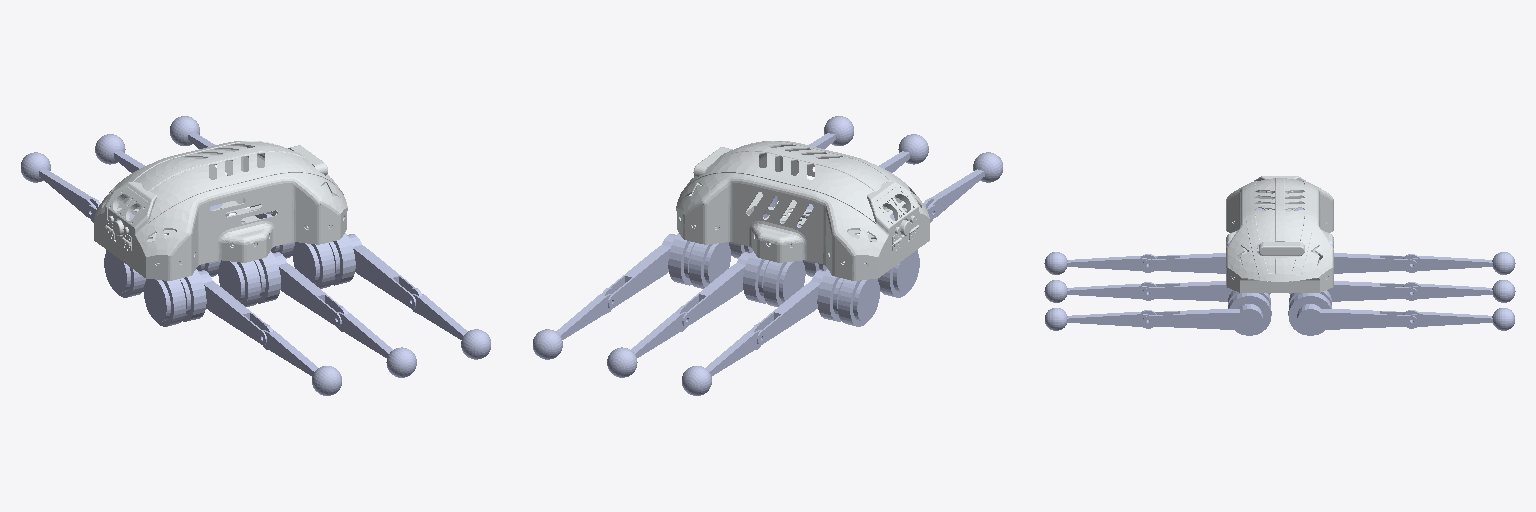
--- Render facts (derived) ---
Views: 3 orthographic renders of the robot side by side, from view 1: azimuth 30°, elevation 25°; view 2: azimuth 150°, elevation 25°; view 3: azimuth 270°, elevation 25°.
Robot: new — 20 links, 19 joints (18 revolute, 1 fixed); root link base_footprint; default pose: every joint at zero.
Links seen in each view (by area): view 1: base_link, R1_2, R3_2, R2_2, R1_3, R2_3, R3_3, R3_1, L3_3, R2_1, R1_1, L3_1 (+2 smaller); view 2: base_link, L1_2, L3_2, L2_2, L1_3, L2_3, L3_3, L3_1, R3_3, L2_1, L1_1, R3_1 (+2 smaller); view 3: base_link, L1_2, R1_2, L2_2, R2_2, L3_2, R3_2, L2_3, R3_3, R1_3, R2_3, L3_3 (+1 smaller).
Boxes of the visible links, bbox=[...] form: base_link: bbox=[94, 141, 347, 280]; R1_2: bbox=[329, 233, 415, 308]; R3_2: bbox=[180, 269, 272, 344]; R2_2: bbox=[254, 251, 347, 326]; R1_3: bbox=[409, 288, 490, 359]; R2_3: bbox=[335, 306, 416, 377]; R3_3: bbox=[260, 324, 341, 395]; R3_1: bbox=[144, 262, 185, 326]; L3_3: bbox=[21, 152, 100, 222]; R2_1: bbox=[218, 222, 260, 306]; R1_1: bbox=[293, 226, 334, 288]; L3_1: bbox=[104, 212, 152, 297]; base_link: bbox=[676, 141, 929, 280]; L1_2: bbox=[608, 233, 694, 308]; L3_2: bbox=[751, 269, 843, 344]; L2_2: bbox=[676, 251, 769, 326]; L1_3: bbox=[533, 288, 614, 359]; L2_3: bbox=[607, 306, 688, 377]; L3_3: bbox=[682, 324, 763, 395]; L3_1: bbox=[838, 262, 879, 326]; R3_3: bbox=[923, 152, 1002, 222]; L2_1: bbox=[763, 222, 805, 306]; L1_1: bbox=[689, 226, 730, 288]; R3_1: bbox=[871, 212, 919, 297]; base_link: bbox=[1226, 176, 1333, 292]; L1_2: bbox=[1288, 293, 1416, 335]; R1_2: bbox=[1143, 293, 1271, 335]; L2_2: bbox=[1289, 281, 1416, 301]; R2_2: bbox=[1143, 281, 1270, 301]; L3_2: bbox=[1334, 253, 1416, 273]; R3_2: bbox=[1143, 253, 1225, 273]; L2_3: bbox=[1403, 280, 1515, 302]; R3_3: bbox=[1044, 252, 1156, 274]; R1_3: bbox=[1045, 308, 1156, 330]; R2_3: bbox=[1044, 280, 1156, 302]; L3_3: bbox=[1403, 252, 1515, 274].
Size in the robot's own frame: 0.4304 by 1 by 0.2403 metres.
Meshes: 19 distinct files referenced, 19 mesh visuals loaded (19 binary STL).

URDF robot description (new):
<?xml version="1.0" encoding="utf-8"?>
<!-- This URDF was automatically created by SolidWorks to URDF Exporter! Originally created by Stephen Brawner ([email redacted]) 
     Commit Version: 1.6.0-4-g7f85cfe  Build Version: 1.6.7995.38578
     For more information, please see http://wiki.ros.org/sw_urdf_exporter -->
<robot
  name="new">

<!--  添加一个尺寸极小的link 再去关联初始link与baselink 关节高度刚好和baselink下沉的高度一致-->
<link name="base_footprint">
        <visual>
            <geometry>
                <sphere radius="0.001" />
            </geometry>
        </visual>
    </link>


  <link
    name="base_link">
    <inertial>
      <origin
        xyz="0.0021167 8.5198E-05 0.02981"
        rpy="0 0 0" />
      <mass
        value="1.604" />
      <!-- <inertia
        ixx="0.0093722"
        ixy="-2.3907E-07"
        ixz="0.00039019"
        iyy="0.01924"
        iyz="1.5047E-06"
        izz="0.024851" />
    </inertial> -->
            <inertia 
        ixx="1"
        ixy="0"
        ixz="0"
        iyy="1"
        iyz="0"
        izz="1" />
      </inertial> 
    <visual>
      <origin
        xyz="0 0 0"
        rpy="0 0 0" />
      <geometry>
        <mesh
          filename="package://new/meshes/base_link.STL" />
      </geometry>
      <material
        name="">
        <color
          rgba="0.89804 0.91765 0.92941 1" />
      </material>
    </visual>
    <collision>
      <origin
        xyz="0 0 0"
        rpy="0 0 0" />
      <geometry>
        <mesh
          filename="package://new/meshes/base_link.STL" />
      </geometry>
    </collision>
  </link>


 <joint name="base_link2base_footprint" type="fixed">
        <parent link="base_footprint" />
        <child link="base_link"/>
        <origin xyz="0 0 0.132" />
    </joint>
  <!-- <xacro:include filename="$(find realsense2_description)/urdf/_d435i.urdf.xacro"/>
  <sensor_d435i parent="base_link" use_nominal_extrinsics="true">
    <origin xyz="0.0 -0.06 0.070" rpy="0 0 -1.57" />
  </sensor_d435i>   -->

  <link
    name="L1_1">
    <inertial>
      <origin
        xyz="-0.00067309 1.4848E-09 -0.031863"
        rpy="0 0 0" />
      <mass
        value="0.42231" />
      <!-- <inertia
        ixx="0.00033286"
        ixy="-3.0595E-13"
        ixz="-2.9159E-11"
        iyy="0.00024704"
        iyz="-1.474E-11"
        izz="0.00033852" />
    </inertial> -->
            <inertia
        ixx="1"
        ixy="0"
        ixz="0"
        iyy="1"
        iyz="0"
        izz="1" />
      </inertial> 
    <visual>
      <origin
        xyz="0 0 0"
        rpy="0 0 0" />
      <geometry>
        <mesh
          filename="package://new/meshes/L1_1.STL" />
      </geometry>
      <material
        name="">
        <color
          rgba="0.79216 0.81961 0.93333 1" />
      </material>
    </visual>
    <collision>
      <origin
        xyz="0 0 0"
        rpy="0 0 0" />
      <geometry>
        <mesh
          filename="package://new/meshes/L1_1.STL" />
      </geometry>
    </collision>
  </link>
  <joint
    name="L1_1J"
    type="revolute">
    <origin
      xyz="0.1409 0.065 -0.02125"
      rpy="0 0 0" />
    <parent
      link="base_link" />
    <child
      link="L1_1" />
    <axis
      xyz="0 0 -1" />
    <limit
      lower="-3"
      upper="3"
      effort="100"
      velocity="3" />
      <dynamics damping="0" friction="0.02"/>
  </joint>
  <link
    name="L1_2">
    <inertial>
      <origin
        xyz="0.049658 0.026192 -4.3584E-06"
        rpy="0 0 0" />
      <mass
        value="0.36848" />
      <!-- <inertia
        ixx="0.0011427"
        ixy="-0.00016978"
        ixz="2.8266E-08"
        iyy="0.0002345"
        iyz="1.9571E-07"
        izz="0.0011212" />
    </inertial> -->
            <inertia
        ixx="1"
        ixy="0"
        ixz="0"
        iyy="1"
        iyz="0"
        izz="1" />
      </inertial> 
    <visual>
      <origin
        xyz="0 0 0"
        rpy="0 0 0" />
      <geometry>
        <mesh
          filename="package://new/meshes/L1_2.STL" />
      </geometry>
      <material
        name="">
        <color
          rgba="0.79216 0.81961 0.93333 1" />
      </material>
    </visual>
    <collision>
      <origin
        xyz="0 0 0"
        rpy="0 0 0" />
      <geometry>
        <mesh
          filename="package://new/meshes/L1_2.STL" />
      </geometry>
    </collision>
  </link>
  <joint
    name="L1_2J"
    type="revolute">
    <origin
      xyz="0 0 -0.06575"
      rpy="0 0 0" />
    <parent
      link="L1_1" />
    <child
      link="L1_2" />
    <axis
      xyz="1 0 0" />
    <limit
      lower="-3"
      upper="3"
      effort="100"
      velocity="3" />
      <dynamics damping="0" friction="0.02"/>
  </joint>
  <link
    name="L1_3">
    <inertial>
      <origin
        xyz="-0.003 0.13449 2.7756E-17"
        rpy="0 0 0" />
      <mass
        value="0.12147" />
      <!-- <inertia
        ixx="0.00070059"
        ixy="1.7121E-19"
        ixz="5.131E-14"
        iyy="2.025E-05"
        iyz="-6.2828E-20"
        izz="0.00069843" />
    </inertial> -->
            <inertia
        ixx="1"
        ixy="0"
        ixz="0"
        iyy="1"
        iyz="0"
        izz="1" />
      </inertial> 
    <visual>
      <origin
        xyz="0 0 0"
        rpy="0 0 0" />
      <geometry>
        <mesh
          filename="package://new/meshes/L1_3.STL" />
      </geometry>
      <material
        name="">
        <color
          rgba="0.79216 0.81961 0.93333 1" />
      </material>
    </visual>
    <collision>
      <origin
        xyz="0 0 0"
        rpy="0 0 0" />
      <geometry>
        <mesh
          filename="package://new/meshes/L1_3.STL" />
      </geometry>
    </collision>
  </link>
  <joint
    name="L1_3J"
    type="revolute">
    <origin
      xyz="0.07025 0.216 0"
      rpy="0 0 0" />
    <parent
      link="L1_2" />
    <child
      link="L1_3" />
    <axis
      xyz="1 0 0" />
    <limit
      lower="-3"
      upper="3"
      effort="100"
      velocity="3" />
      <dynamics damping="0" friction="0.02"/>
  </joint>
  <link
    name="R1_1">
    <inertial>
      <origin
        xyz="-0.00067309 1.4848E-09 -0.031863"
        rpy="0 0 0" />
      <mass
        value="0.42231" />
      <!-- <inertia
        ixx="0.00033286"
        ixy="-3.0595E-13"
        ixz="-2.9159E-11"
        iyy="0.00024704"
        iyz="-1.474E-11"
        izz="0.00033852" />
    </inertial> -->
            <inertia
        ixx="1"
        ixy="0"
        ixz="0"
        iyy="1"
        iyz="0"
        izz="1" />
      </inertial> 
    <visual>
      <origin
        xyz="0 0 0"
        rpy="0 0 0" />
      <geometry>
        <mesh
          filename="package://new/meshes/R1_1.STL" />
      </geometry>
      <material
        name="">
        <color
          rgba="0.79216 0.81961 0.93333 1" />
      </material>
    </visual>
    <collision>
      <origin
        xyz="0 0 0"
        rpy="0 0 0" />
      <geometry>
        <mesh
          filename="package://new/meshes/R1_1.STL" />
      </geometry>
    </collision>
  </link>
  <joint
    name="R1_1J"
    type="revolute">
    <origin
      xyz="0.1409 -0.065 -0.02125"
      rpy="0 0 0" />
    <parent
      link="base_link" />
    <child
      link="R1_1" />
    <axis
      xyz="0 0 -1" />
    <limit
      lower="-3"
      upper="3"
      effort="100"
      velocity="3" />
      <dynamics damping="0" friction="0.02"/>
  </joint>
  <link
    name="R1_2">
    <inertial>
      <origin
        xyz="0.049658 -0.026192 4.3627E-06"
        rpy="0 0 0" />
      <mass
        value="0.36848" />
      <!-- <inertia
        ixx="0.0011427"
        ixy="0.00016978"
        ixz="-2.8266E-08"
        iyy="0.0002345"
        iyz="1.9571E-07"
        izz="0.0011212" />
    </inertial> -->
            <inertia
        ixx="1"
        ixy="0"
        ixz="0"
        iyy="1"
        iyz="0"
        izz="1" />
      </inertial> 
    <visual>
      <origin
        xyz="0 0 0"
        rpy="0 0 0" />
      <geometry>
        <mesh
          filename="package://new/meshes/R1_2.STL" />
      </geometry>
      <material
        name="">
        <color
          rgba="0.79216 0.81961 0.93333 1" />
      </material>
    </visual>
    <collision>
      <origin
        xyz="0 0 0"
        rpy="0 0 0" />
      <geometry>
        <mesh
          filename="package://new/meshes/R1_2.STL" />
      </geometry>
    </collision>
  </link>
  <joint
    name="R1_2J"
    type="revolute">
    <origin
      xyz="0 0 -0.06575"
      rpy="0 0 0" />
    <parent
      link="R1_1" />
    <child
      link="R1_2" />
    <axis
      xyz="1 0 0" />
    <limit
      lower="-3"
      upper="3"
      effort="100"
      velocity="3" />
      <dynamics damping="0" friction="0.02"/>
  </joint>
  <link
    name="R1_3">
    <inertial>
      <origin
        xyz="-0.003 -0.13449 -5.5511E-17"
        rpy="0 0 0" />
      <mass
        value="0.12147" />
      <!-- <inertia
        ixx="0.00070059"
        ixy="-1.2934E-19"
        ixz="-5.131E-14"
        iyy="2.025E-05"
        iyz="-6.9753E-20"
        izz="0.00069843" />
    </inertial> -->
            <inertia
        ixx="1"
        ixy="0"
        ixz="0"
        iyy="1"
        iyz="0"
        izz="1" />
      </inertial> 
    <visual>
      <origin
        xyz="0 0 0"
        rpy="0 0 0" />
      <geometry>
        <mesh
          filename="package://new/meshes/R1_3.STL" />
      </geometry>
      <material
        name="">
        <color
          rgba="0.79216 0.81961 0.93333 1" />
      </material>
    </visual>
    <collision>
      <origin
        xyz="0 0 0"
        rpy="0 0 0" />
      <geometry>
        <mesh
          filename="package://new/meshes/R1_3.STL" />
      </geometry>
    </collision>
  </link>
  <joint
    name="R1_3J"
    type="revolute">
    <origin
      xyz="0.07025 -0.216 0"
      rpy="0 0 0" />
    <parent
      link="R1_2" />
    <child
      link="R1_3" />
    <axis
      xyz="1 0 0" />
    <limit
      lower="-3"
      upper="3"
      effort="100"
      velocity="3" />
      <dynamics damping="0" friction="0.02"/>
  </joint>
  <link
    name="L2_1">
    <inertial>
      <origin
        xyz="-0.00067309 1.4848E-09 -0.031863"
        rpy="0 0 0" />
      <mass
        value="0.42231" />
      <!-- <inertia
        ixx="0.00033286"
        ixy="-3.0595E-13"
        ixz="-2.9159E-11"
        iyy="0.00024704"
        iyz="-1.474E-11"
        izz="0.00033852" />
    </inertial> -->
            <inertia
        ixx="1"
        ixy="0"
        ixz="0"
        iyy="1"
        iyz="0"
        izz="1" />
      </inertial> 
    <visual>
      <origin
        xyz="0 0 0"
        rpy="0 0 0" />
      <geometry>
        <mesh
          filename="package://new/meshes/L2_1.STL" />
      </geometry>
      <material
        name="">
        <color
          rgba="0.79216 0.81961 0.93333 1" />
      </material>
    </visual>
    <collision>
      <origin
        xyz="0 0 0"
        rpy="0 0 0" />
      <geometry>
        <mesh
          filename="package://new/meshes/L2_1.STL" />
      </geometry>
    </collision>
  </link>
  <joint
    name="L2_1J"
    type="revolute">
    <origin
      xyz="0 0.065 -0.02125"
      rpy="0 0 0" />
    <parent
      link="base_link" />
    <child
      link="L2_1" />
    <axis
      xyz="0 0 -1" />
    <limit
      lower="-3"
      upper="3"
      effort="100"
      velocity="3" />
      <dynamics damping="0" friction="0.02"/>
  </joint>
  <link
    name="L2_2">
    <inertial>
      <origin
        xyz="0.049658 0.026192 -4.3584E-06"
        rpy="0 0 0" />
      <mass
        value="0.36848" />
      <!-- <inertia
        ixx="0.0011427"
        ixy="-0.00016978"
        ixz="2.8266E-08"
        iyy="0.0002345"
        iyz="1.9571E-07"
        izz="0.0011212" />
    </inertial> -->
            <inertia
        ixx="1"
        ixy="0"
        ixz="0"
        iyy="1"
        iyz="0"
        izz="1" />
      </inertial> 
    <visual>
      <origin
        xyz="0 0 0"
        rpy="0 0 0" />
      <geometry>
        <mesh
          filename="package://new/meshes/L2_2.STL" />
      </geometry>
      <material
        name="">
        <color
          rgba="0.79216 0.81961 0.93333 1" />
      </material>
    </visual>
    <collision>
      <origin
        xyz="0 0 0"
        rpy="0 0 0" />
      <geometry>
        <mesh
          filename="package://new/meshes/L2_2.STL" />
      </geometry>
    </collision>
  </link>
  <joint
    name="L2_2J"
    type="revolute">
    <origin
      xyz="0 0 -0.06575"
      rpy="0 0 0" />
    <parent
      link="L2_1" />
    <child
      link="L2_2" />
    <axis
      xyz="1 0 0" />
    <limit
      lower="-3"
      upper="3"
      effort="100"
      velocity="3" />
      <dynamics damping="0" friction="0.02"/>
  </joint>
  <link
    name="L2_3">
    <inertial>
      <origin
        xyz="-0.003 0.13449 0"
        rpy="0 0 0" />
      <mass
        value="0.12147" />
      <!-- <inertia
        ixx="0.00070059"
        ixy="1.5629E-19"
        ixz="5.131E-14"
        iyy="2.025E-05"
        iyz="-4.5384E-20"
        izz="0.00069843" />
    </inertial> -->
            <inertia
        ixx="1"
        ixy="0"
        ixz="0"
        iyy="1"
        iyz="0"
        izz="1" />
      </inertial> 
    <visual>
      <origin
        xyz="0 0 0"
        rpy="0 0 0" />
      <geometry>
        <mesh
          filename="package://new/meshes/L2_3.STL" />
      </geometry>
      <material
        name="">
        <color
          rgba="0.79216 0.81961 0.93333 1" />
      </material>
    </visual>
    <collision>
      <origin
        xyz="0 0 0"
        rpy="0 0 0" />
      <geometry>
        <mesh
          filename="package://new/meshes/L2_3.STL" />
      </geometry>
    </collision>
  </link>
  <joint
    name="L2_3J"
    type="revolute">
    <origin
      xyz="0.07025 0.216 0"
      rpy="0 0 0" />
    <parent
      link="L2_2" />
    <child
      link="L2_3" />
    <axis
      xyz="1 0 0" />
    <limit
      lower="-3"
      upper="3"
      effort="100"
      velocity="3" />
      <dynamics damping="0" friction="0.02"/>
  </joint>
  <link
    name="R2_1">
    <inertial>
      <origin
        xyz="-0.00067309 1.4848E-09 -0.031863"
        rpy="0 0 0" />
      <mass
        value="0.42231" />
      <!-- <inertia
        ixx="0.00033286"
        ixy="-3.0595E-13"
        ixz="-2.9159E-11"
        iyy="0.00024704"
        iyz="-1.474E-11"
        izz="0.00033852" />
    </inertial> -->
            <inertia
        ixx="1"
        ixy="0"
        ixz="0"
        iyy="1"
        iyz="0"
        izz="1" />
      </inertial> 
    <visual>
      <origin
        xyz="0 0 0"
        rpy="0 0 0" />
      <geometry>
        <mesh
          filename="package://new/meshes/R2_1.STL" />
      </geometry>
      <material
        name="">
        <color
          rgba="0.79216 0.81961 0.93333 1" />
      </material>
    </visual>
    <collision>
      <origin
        xyz="0 0 0"
        rpy="0 0 0" />
      <geometry>
        <mesh
          filename="package://new/meshes/R2_1.STL" />
      </geometry>
    </collision>
  </link>
  <joint
    name="R2_1J"
    type="revolute">
    <origin
      xyz="0 -0.065 -0.02125"
      rpy="0 0 0" />
    <parent
      link="base_link" />
    <child
      link="R2_1" />
    <axis
      xyz="0 0 -1" />
    <limit
      lower="-3"
      upper="3"
      effort="100"
      velocity="3" />
      <dynamics damping="0" friction="0.02"/>
  </joint>
  <link
    name="R2_2">
    <inertial>
      <origin
        xyz="0.049658 -0.026192 4.3627E-06"
        rpy="0 0 0" />
      <mass
        value="0.36848" />
      <!-- <inertia
        ixx="0.0011427"
        ixy="0.00016978"
        ixz="-2.8266E-08"
        iyy="0.0002345"
        iyz="1.9571E-07"
        izz="0.0011212" />
    </inertial> -->
            <inertia
        ixx="1"
        ixy="0"
        ixz="0"
        iyy="1"
        iyz="0"
        izz="1" />
      </inertial> 
    <visual>
      <origin
        xyz="0 0 0"
        rpy="0 0 0" />
      <geometry>
        <mesh
          filename="package://new/meshes/R2_2.STL" />
      </geometry>
      <material
        name="">
        <color
          rgba="0.79216 0.81961 0.93333 1" />
      </material>
    </visual>
    <collision>
      <origin
        xyz="0 0 0"
        rpy="0 0 0" />
      <geometry>
        <mesh
          filename="package://new/meshes/R2_2.STL" />
      </geometry>
    </collision>
  </link>
  <joint
    name="R2_2J"
    type="revolute">
    <origin
      xyz="0 0 -0.06575"
      rpy="0 0 0" />
    <parent
      link="R2_1" />
    <child
      link="R2_2" />
    <axis
      xyz="1 0 0" />
    <limit
      lower="-3"
      upper="3"
      effort="100"
      velocity="3" />
      <dynamics damping="0" friction="0.02"/>
  </joint>
  <link
    name="R2_3">
    <inertial>
      <origin
        xyz="0.003 -0.134485646148589 -2.77555756156289E-17"
        rpy="0 0 0" />
      <mass
        value="0.12147150023465" />
      <!-- <inertia
        ixx="0.000700586529163542"
        ixy="-1.18247564853111E-19"
        ixz="-5.13095320285965E-14"
        iyy="2.02504146274256E-05"
        iyz="-1.08211276134211E-19"
        izz="0.000698429465120906" />
    </inertial> -->
            <inertia
        ixx="1"
        ixy="0"
        ixz="0"
        iyy="1"
        iyz="0"
        izz="1" />
      </inertial> 
    <visual>
      <origin
        xyz="0 0 0"
        rpy="0 0 0" />
      <geometry>
        <mesh
          filename="package://new/meshes/R2_3.STL" />
      </geometry>
      <material
        name="">
        <color
          rgba="0.792156862745098 0.819607843137255 0.933333333333333 1" />
      </material>
    </visual>
    <collision>
      <origin
        xyz="0 0 0"
        rpy="0 0 0" />
      <geometry>
        <mesh
          filename="package://new/meshes/R2_3.STL" />
      </geometry>
    </collision>
  </link>
  <joint
    name="R2_3J"
    type="revolute">
    <origin
      xyz="0.06425 -0.216 0"
      rpy="0 0 0" />
    <parent
      link="R2_2" />
    <child
      link="R2_3" />
    <axis
      xyz="1 0 0" />
    <limit
      lower="-3"
      upper="3"
      effort="100"
      velocity="3" />
      <dynamics damping="0" friction="0.02"/>
  </joint>
  <link
    name="L3_1">
    <inertial>
      <origin
        xyz="-0.00067309 1.4848E-09 -0.031863"
        rpy="0 0 0" />
      <mass
        value="0.42231" />
      <!-- <inertia
        ixx="0.00033286"
        ixy="-3.0595E-13"
        ixz="-2.9159E-11"
        iyy="0.00024704"
        iyz="-1.474E-11"
        izz="0.00033852" />
    </inertial> -->
            <inertia
        ixx="1"
        ixy="0"
        ixz="0"
        iyy="1"
        iyz="0"
        izz="1" />
      </inertial> 
    <visual>
      <origin
        xyz="0 0 0"
        rpy="0 0 0" />
      <geometry>
        <mesh
          filename="package://new/meshes/L3_1.STL" />
      </geometry>
      <material
        name="">
        <color
          rgba="0.79216 0.81961 0.93333 1" />
      </material>
    </visual>
    <collision>
      <origin
        xyz="0 0 0"
        rpy="0 0 0" />
      <geometry>
        <mesh
          filename="package://new/meshes/L3_1.STL" />
      </geometry>
    </collision>
  </link>
  <joint
    name="L3_1J"
    type="revolute">
    <origin
      xyz="-0.1409 0.065 -0.02125"
      rpy="0 0 0" />
    <parent
      link="base_link" />
    <child
      link="L3_1" />
    <axis
      xyz="0 0 -1" />
    <limit
      lower="-3"
      upper="3"
      effort="100"
      velocity="3" />
      <dynamics damping="0" friction="0.02"/>
  </joint>
  <link
    name="L3_2">
    <inertial>
      <origin
        xyz="0.049658 0.026192 -4.3584E-06"
        rpy="0 0 0" />
      <mass
        value="0.36848" />
      <!-- <inertia
        ixx="0.0011427"
        ixy="-0.00016978"
        ixz="2.8266E-08"
        iyy="0.0002345"
        iyz="1.9571E-07"
        izz="0.0011212" />
    </inertial> -->
            <inertia
        ixx="1"
        ixy="0"
        ixz="0"
        iyy="1"
        iyz="0"
        izz="1" />
      </inertial> 
    <visual>
      <origin
        xyz="0 0 0"
        rpy="0 0 0" />
      <geometry>
        <mesh
          filename="package://new/meshes/L3_2.STL" />
      </geometry>
      <material
        name="">
        <color
          rgba="0.79216 0.81961 0.93333 1" />
      </material>
    </visual>
    <collision>
      <origin
        xyz="0 0 0"
        rpy="0 0 0" />
      <geometry>
        <mesh
          filename="package://new/meshes/L3_2.STL" />
      </geometry>
    </collision>
  </link>
  <joint
    name="L3_2J"
    type="revolute">
    <origin
      xyz="0 0 -0.06575"
      rpy="0 0 0" />
    <parent
      link="L3_1" />
    <child
      link="L3_2" />
    <axis
      xyz="1 0 0" />
    <limit
      lower="-3"
      upper="3"
      effort="100"
      velocity="3" />
      <dynamics damping="0" friction="0.02"/>
  </joint>
  <link
    name="L3_3">
    <inertial>
      <origin
        xyz="0.003 0.13449 2.7756E-17"
        rpy="0 0 0" />
      <mass
        value="0.12147" />
      <!-- <inertia
        ixx="0.00070059"
        ixy="1.5737E-19"
        ixz="5.131E-14"
        iyy="2.025E-05"
        iyz="-8.1516E-21"
        izz="0.00069843" />
    </inertial> -->
            <inertia
        ixx="1"
        ixy="0"
        ixz="0"
        iyy="1"
        iyz="0"
        izz="1" />
      </inertial> 
    <visual>
      <origin
        xyz="0 0 0"
        rpy="0 0 0" />
      <geometry>
        <mesh
          filename="package://new/meshes/L3_3.STL" />
      </geometry>
      <material
        name="">
        <color
          rgba="0.79216 0.81961 0.93333 1" />
      </material>
    </visual>
    <collision>
      <origin
        xyz="0 0 0"
        rpy="0 0 0" />
      <geometry>
        <mesh
          filename="package://new/meshes/L3_3.STL" />
      </geometry>
    </collision>
  </link>
  <joint
    name="L3_3J"
    type="revolute">
    <origin
      xyz="0.06425 0.216 0"
      rpy="0 0 0" />
    <parent
      link="L3_2" />
    <child
      link="L3_3" />
    <axis
      xyz="1 0 0" />
    <limit
      lower="-3"
      upper="3"
      effort="100"
      velocity="3" />
      <dynamics damping="0" friction="0.02"/>
  </joint>
  <link
    name="R3_1">
    <inertial>
      <origin
        xyz="-0.00067309 1.4848E-09 -0.031863"
        rpy="0 0 0" />
      <mass
        value="0.42231" />
      <!-- <inertia
        ixx="0.00033286"
        ixy="-3.0595E-13"
        ixz="-2.9159E-11"
        iyy="0.00024704"
        iyz="-1.474E-11"
        izz="0.00033852" />
    </inertial> -->
            <inertia
        ixx="1"
        ixy="0"
        ixz="0"
        iyy="1"
        iyz="0"
        izz="1" />
      </inertial> 
    <visual>
      <origin
        xyz="0 0 0"
        rpy="0 0 0" />
      <geometry>
        <mesh
          filename="package://new/meshes/R3_1.STL" />
      </geometry>
      <material
        name="">
        <color
          rgba="0.79216 0.81961 0.93333 1" />
      </material>
    </visual>
    <collision>
      <origin
        xyz="0 0 0"
        rpy="0 0 0" />
      <geometry>
        <mesh
          filename="package://new/meshes/R3_1.STL" />
      </geometry>
    </collision>
  </link>
  <joint
    name="R3_1J"
    type="revolute">
    <origin
      xyz="-0.1409 -0.065 -0.02125"
      rpy="0 0 0" />
    <parent
      link="base_link" />
    <child
      link="R3_1" />
    <axis
      xyz="0 0 -1" />
    <limit
      lower="-3"
      upper="3"
      effort="100"
      velocity="3" />
      <dynamics damping="0" friction="0.02"/>
  </joint>
  <link
    name="R3_2">
    <inertial>
      <origin
        xyz="0.049658 -0.026192 4.3627E-06"
        rpy="0 0 0" />
      <mass
        value="0.36848" />
      <!-- <inertia
        ixx="0.0011427"
        ixy="0.00016978"
        ixz="-2.8266E-08"
        iyy="0.0002345"
        iyz="1.9571E-07"
        izz="0.0011212" />
    </inertial> -->
            <inertia
        ixx="1"
        ixy="0"
        ixz="0"
        iyy="1"
        iyz="0"
        izz="1" />
      </inertial> 
    <visual>
      <origin
        xyz="0 0 0"
        rpy="0 0 0" />
      <geometry>
        <mesh
          filename="package://new/meshes/R3_2.STL" />
      </geometry>
      <material
        name="">
        <color
          rgba="0.79216 0.81961 0.93333 1" />
      </material>
    </visual>
    <collision>
      <origin
        xyz="0 0 0"
        rpy="0 0 0" />
      <geometry>
        <mesh
          filename="package://new/meshes/R3_2.STL" />
      </geometry>
    </collision>
  </link>
  <joint
    name="R3_2J"
    type="revolute">
    <origin
      xyz="0 0 -0.06575"
      rpy="0 0 0" />
    <parent
      link="R3_1" />
    <child
      link="R3_2" />
    <axis
      xyz="1 0 0" />
    <limit
      lower="-3"
      upper="3"
      effort="100"
      velocity="3" />
      <dynamics damping="0" friction="0.02"/>
  </joint>
  <link
    name="R3_3">
    <inertial>
      <origin
        xyz="0.003 -0.13449 0"
        rpy="0 0 0" />
      <mass
        value="0.12147" />
      <!-- <inertia
        ixx="0.00070059"
        ixy="-1.906E-19"
        ixz="-5.131E-14"
        iyy="2.025E-05"
        iyz="-2.412E-19"
        izz="0.00069843" />
    </inertial> -->
            <inertia
        ixx="1"
        ixy="0"
        ixz="0"
        iyy="1"
        iyz="0"
        izz="1" />
      </inertial> 
    <visual>
      <origin
        xyz="0 0 0"
        rpy="0 0 0" />
      <geometry>
        <mesh
          filename="package://new/meshes/R3_3.STL" />
      </geometry>
      <material
        name="">
        <color
          rgba="0.79216 0.81961 0.93333 1" />
      </material>
    </visual>
    <collision>
      <origin
        xyz="0 0 0"
        rpy="0 0 0" />
      <geometry>
        <mesh
          filename="package://new/meshes/R3_3.STL" />
      </geometry>
    </collision>
  </link>
  <joint
    name="R3_3J"
    type="revolute">
    <origin
      xyz="0.06425 -0.216 0"
      rpy="0 0 0" />
    <parent
      link="R3_2" />
    <child
      link="R3_3" />
    <axis
      xyz="1 0 0" />
    <limit
      lower="-3"
      upper="3"
      effort="100"
      velocity="3" />
      <dynamics damping="0" friction="0.02"/>
  </joint>

  <transmission name="trans_L1_1_joint">
        <type>transmission_interface/SimpleTransmission</type>
        <joint name="L1_1J">
            <hardwareInterface>hardware_interface/EffortJointInterface</hardwareInterface>
        </joint>
        <actuator name="L1_1_joint_motor">
            <hardwareInterface>hardware_interface/EffortJointInterface</hardwareInterface>
            <mechanicalReduction>1</mechanicalReduction>
        </actuator>
    </transmission>
<transmission name="trans_L1_2_joint">
        <type>transmission_interface/SimpleTransmission</type>
        <joint name="L1_2J">
            <hardwareInterface>hardware_interface/EffortJointInterface</hardwareInterface>
        </joint>
        <actuator name="L1_2_joint_motor">
            <hardwareInterface>hardware_interface/EffortJointInterface</hardwareInterface>
            <mechanicalReduction>1</mechanicalReduction>
        </actuator>
    </transmission>
<transmission name="trans_L1_3_joint">
        <type>transmission_interface/SimpleTransmission</type>
        <joint name="L1_3J">
            <hardwareInterface>hardware_interface/EffortJointInterface</hardwareInterface>
        </joint>
        <actuator name="L1_3_joint_motor">
            <hardwareInterface>hardware_interface/EffortJointInterface</hardwareInterface>
            <mechanicalReduction>1</mechanicalReduction>
        </actuator>
    </transmission>
    <transmission name="trans_L2_1_joint">
        <type>transmission_interface/SimpleTransmission</type>
        <joint name="L2_1J">
            <hardwareInterface>hardware_interface/EffortJointInterface</hardwareInterface>
        </joint>
        <actuator name="L2_1_joint_motor">
            <hardwareInterface>hardware_interface/EffortJointInterface</hardwareInterface>
            <mechanicalReduction>1</mechanicalReduction>
        </actuator>
    </transmission>
    <transmission name="trans_L2_2_joint">
        <type>transmission_interface/SimpleTransmission</type>
        <joint name="L2_2J">
            <hardwareInterface>hardware_interface/EffortJointInterface</hardwareInterface>
        </joint>
        <actuator name="L2_2_joint_motor">
            <hardwareInterface>hardware_interface/EffortJointInterface</hardwareInterface>
            <mechanicalReduction>1</mechanicalReduction>
        </actuator>
    </transmission>
    <transmission name="trans_L2_3_joint">
        <type>transmission_interface/SimpleTransmission</type>
        <joint name="L2_3J">
            <hardwareInterface>hardware_interface/EffortJointInterface</hardwareInterface>
        </joint>
        <actuator name="L2_3_joint_motor">
            <hardwareInterface>hardware_interface/EffortJointInterface</hardwareInterface>
            <mechanicalReduction>1</mechanicalReduction>
        </actuator>
    </transmission>
    <transmission name="trans_L3_1_joint">
        <type>transmission_interface/SimpleTransmission</type>
        <joint name="L3_1J">
            <hardwareInterface>hardware_interface/EffortJointInterface</hardwareInterface>
        </joint>
        <actuator name="L3_1_joint_motor">
            <hardwareInterface>hardware_interface/EffortJointInterface</hardwareInterface>
            <mechanicalReduction>1</mechanicalReduction>
        </actuator>
    </transmission>
    <transmission name="trans_L3_2_joint">
        <type>transmission_interface/SimpleTransmission</type>
        <joint name="L3_2J">
            <hardwareInterface>hardware_interface/EffortJointInterface</hardwareInterface>
        </joint>
        <actuator name="L3_2_joint_motor">
            <hardwareInterface>hardware_interface/EffortJointInterface</hardwareInterface>
            <mechanicalReduction>1</mechanicalReduction>
        </actuator>
    </transmission>
    <transmission name="trans_L3_3_joint">
        <type>transmission_interface/SimpleTransmission</type>
        <joint name="L3_3J">
            <hardwareInterface>hardware_interface/EffortJointInterface</hardwareInterface>
        </joint>
        <actuator name="L3_3_joint_motor">
            <hardwareInterface>hardware_interface/EffortJointInterface</hardwareInterface>
            <mechanicalReduction>1</mechanicalReduction>
        </actuator>
    </transmission>
    <transmission name="trans_R1_1_joint">
        <type>transmission_interface/SimpleTransmission</type>
        <joint name="R1_1J">
            <hardwareInterface>hardware_interface/EffortJointInterface</hardwareInterface>
        </joint>
        <actuator name="R1_1_joint_motor">
            <hardwareInterface>hardware_interface/EffortJointInterface</hardwareInterface>
            <mechanicalReduction>1</mechanicalReduction>
        </actuator>
    </transmission>
    <transmission name="trans_R1_2_joint">
        <type>transmission_interface/SimpleTransmission</type>
        <joint name="R1_2J">
            <hardwareInterface>hardware_interface/EffortJointInterface</hardwareInterface>
        </joint>
        <actuator name="R1_2_joint_motor">
            <hardwareInterface>hardware_interface/EffortJointInterface</hardwareInterface>
            <mechanicalReduction>1</mechanicalReduction>
        </actuator>
    </transmission>
    <transmission name="trans_R1_3_joint">
        <type>transmission_interface/SimpleTransmission</type>
        <joint name="R1_3J">
            <hardwareInterface>hardware_interface/EffortJointInterface</hardwareInterface>
        </joint>
        <actuator name="R1_3_joint_motor">
            <hardwareInterface>hardware_interface/EffortJointInterface</hardwareInterface>
            <mechanicalReduction>1</mechanicalReduction>
        </actuator>
    </transmission>
    <transmission name="trans_R2_1_joint">
        <type>transmission_interface/SimpleTransmission</type>
        <joint name="R2_1J">
            <hardwareInterface>hardware_interface/EffortJointInterface</hardwareInterface>
        </joint>
        <actuator name="R2_1_joint_motor">
            <hardwareInterface>hardware_interface/EffortJointInterface</hardwareInterface>
            <mechanicalReduction>1</mechanicalReduction>
        </actuator>
    </transmission>
    <transmission name="trans_R2_2_joint">
        <type>transmission_interface/SimpleTransmission</type>
        <joint name="R2_2J">
            <hardwareInterface>hardware_interface/EffortJointInterface</hardwareInterface>
        </joint>
        <actuator name="R2_2_joint_motor">
            <hardwareInterface>hardware_interface/EffortJointInterface</hardwareInterface>
            <mechanicalReduction>1</mechanicalReduction>
        </actuator>
    </transmission>
    <transmission name="trans_R2_3_joint">
        <type>transmission_interface/SimpleTransmission</type>
        <joint name="R2_3J">
            <hardwareInterface>hardware_interface/EffortJointInterface</hardwareInterface>
        </joint>
        <actuator name="R2_3_joint_motor">
            <hardwareInterface>hardware_interface/EffortJointInterface</hardwareInterface>
            <mechanicalReduction>1</mechanicalReduction>
        </actuator>
    </transmission>
    <transmission name="trans_R3_1_joint">
        <type>transmission_interface/SimpleTransmission</type>
        <joint name="R3_1J">
            <hardwareInterface>hardware_interface/EffortJointInterface</hardwareInterface>
        </joint>
        <actuator name="R3_1_joint_motor">
            <hardwareInterface>hardware_interface/EffortJointInterface</hardwareInterface>
            <mechanicalReduction>1</mechanicalReduction>
        </actuator>
    </transmission>
    <transmission name="trans_R3_2_joint">
        <type>transmission_interface/SimpleTransmission</type>
        <joint name="R3_2J">
            <hardwareInterface>hardware_interface/EffortJointInterface</hardwareInterface>
        </joint>
        <actuator name="R3_2_joint_motor">
            <hardwareInterface>hardware_interface/EffortJointInterface</hardwareInterface>
            <mechanicalReduction>1</mechanicalReduction>
        </actuator>
    </transmission>
    <transmission name="trans_R3_3_joint">
        <type>transmission_interface/SimpleTransmission</type>
        <joint name="R3_3J">
            <hardwareInterface>hardware_interface/EffortJointInterface</hardwareInterface>
        </joint>
        <actuator name="R3_3_joint_motor">
            <hardwareInterface>hardware_interface/EffortJointInterface</hardwareInterface>
            <mechanicalReduction>1</mechanicalReduction>
        </actuator>
    </transmission>
<!-- 将机器人挂起  -->

 <!-- <link name="world"/>
<joint name="fix" type="fixed">
<origin xyz="0 0 1" rpy="0 0 0"/>
<parent link="world"/>
<child link="base_link"/>
</joint> -->

<gazebo>
        <plugin name="gazebo_ros_control" filename="libgazebo_ros_control.so">
            <robotNamespace>/new</robotNamespace>
            <robotSimType>gazebo_ros_control/DefaultRobotHWSim</robotSimType>
        </plugin>

        <plugin name="3dplotTorso" filename="libLinkPlot3DPlugin.so">
            <frequency>500</frequency>
            <topicName>POS_COM</topicName>
            <plot>
             <link>base_link</link>
             <pose>0 0 0 0 0 0</pose>
             <material>Gazebo/Yellow</material>
            </plot>
        </plugin>

        <plugin name="POS_COM" filename="libgazebo_ros_p3d.so">
          <alwaysOn>true</alwaysOn>
          <bodyName>base_link</bodyName>
          <topicName>odom/ground_truth</topicName>
       
          <gaussianNoise>0.1</gaussianNoise>
          <frameName>world</frameName>
          <xyzOffsets>0 0 0</xyzOffsets>
          <rpyOffsets>0 0 0</rpyOffsets>
          <updateRate>10.0</updateRate>
        </plugin>

        <!-- <plugin name="POS_COM" filename="libgazebo_ros_p3d.so">
          <alwaysOn>true</alwaysOn>
          <updateRate>500.0</updateRate>
          <bodyName>base_link</bodyName>
          <topicName>POS_COM</topicName>
          <gaussianNoise>0.0</gaussianNoise>
          <frameName>map</frameName>
          <xyzOffsets>0 0 0</xyzOffsets>
          <rpyOffsets>0 0 0</rpyOffsets>
        </plugin> -->


  </gazebo>

</robot>
